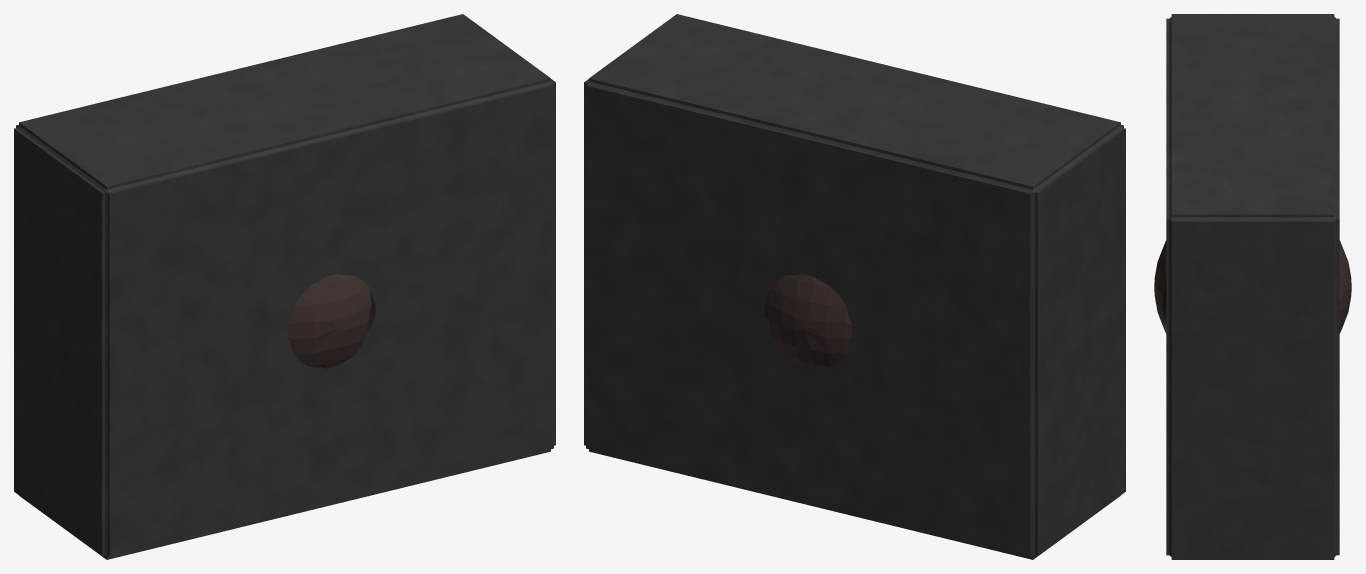
File: billiards-textures.glb
3 renders of one model, left to right at view 1: azimuth 30°, elevation 25°; view 2: azimuth 150°, elevation 25°; view 3: azimuth 270°, elevation 25°, orthographic. The views are drawn at different scales.
Parts seen in each view (by area): view 1: camera_housing_geom, black_visual; view 2: camera_housing_geom, black_visual; view 3: camera_housing_geom, black_visual.
Part boxes in pixels (box(x1,y1,x2,y2)): camera_housing_geom: box(14, 14, 555, 559); black_visual: box(288, 273, 375, 368); camera_housing_geom: box(584, 14, 1125, 559); black_visual: box(764, 273, 851, 368); camera_housing_geom: box(1166, 14, 1339, 559); black_visual: box(1154, 240, 1351, 333).
Size of the model in its own units: 0.14 by 0.11 by 0.057.
13 materials, 13 textured.
